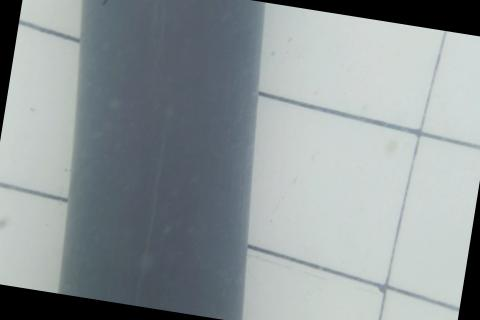keretakan: (102, 0, 138, 12)
